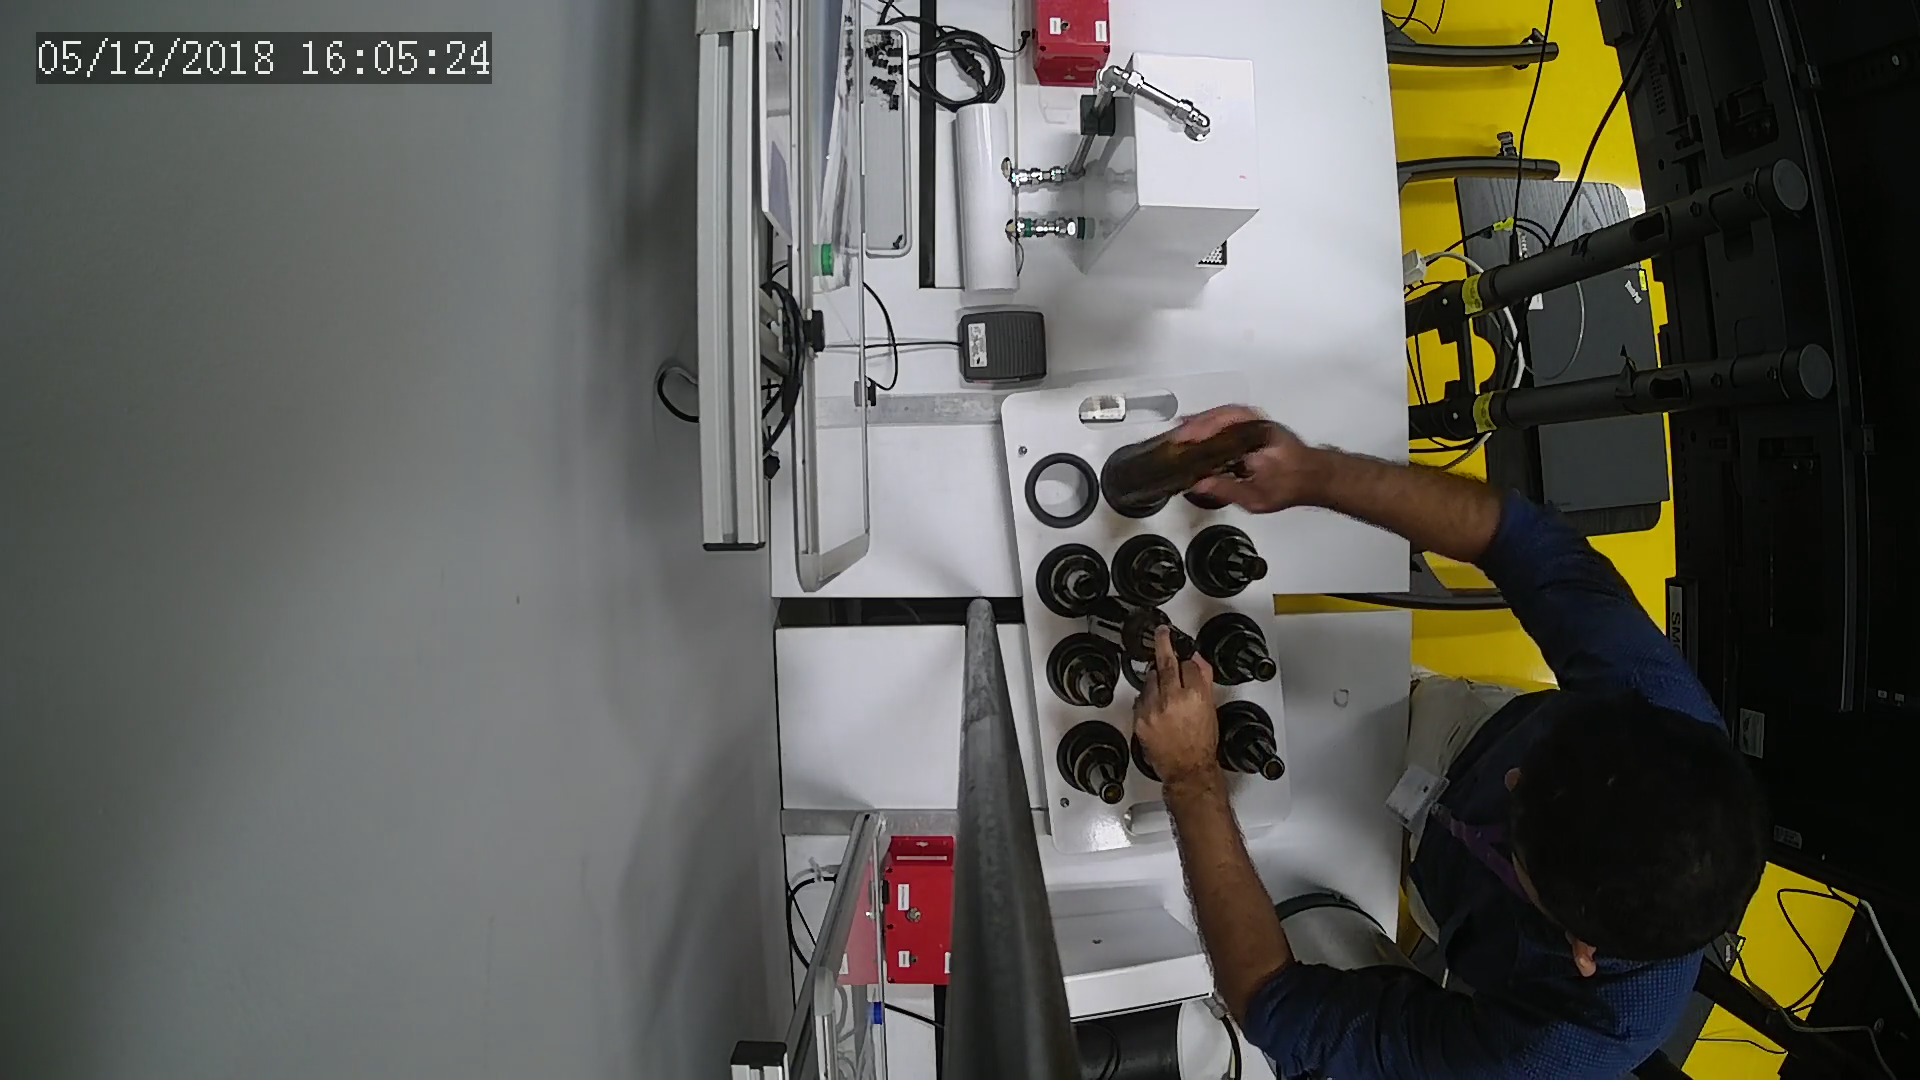filled_bottle: (1183, 516, 1276, 607), (1102, 527, 1191, 618), (1199, 613, 1283, 705), (1215, 699, 1294, 795), (1054, 720, 1131, 815), (1043, 632, 1127, 716), (1035, 535, 1116, 624)
trolley: (1001, 371, 1323, 853)
